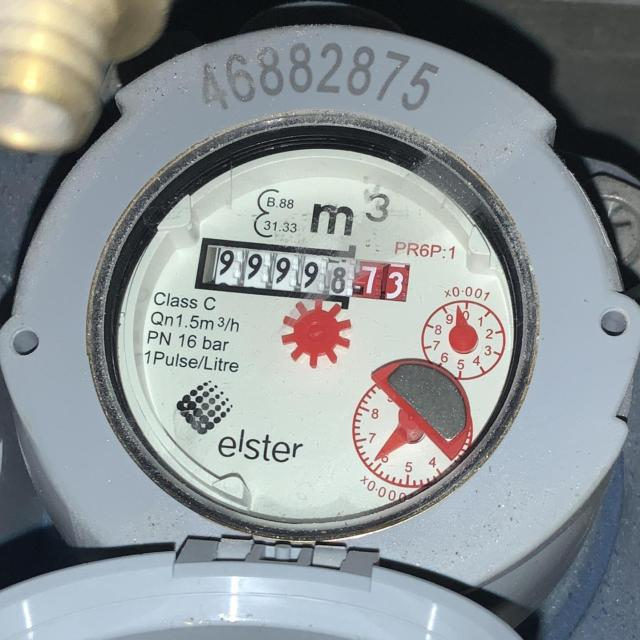gaz_meter: (87, 109, 525, 534)
indication: (202, 241, 411, 303)
